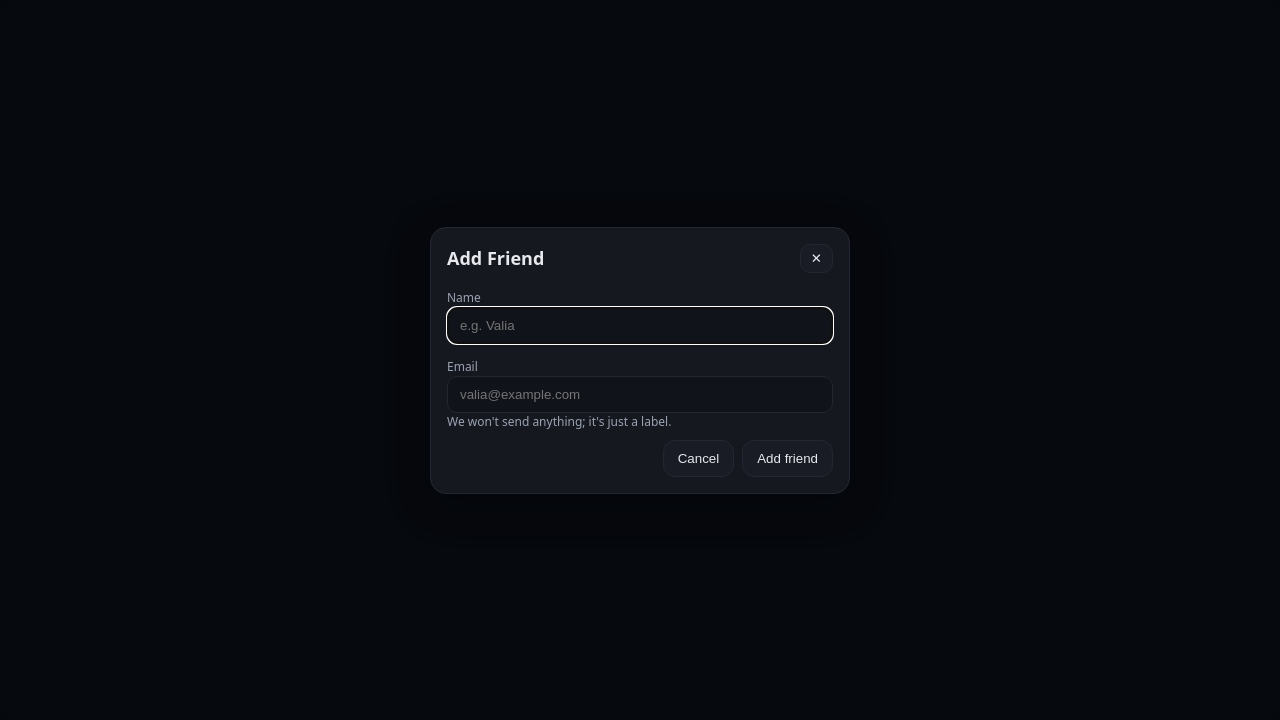
Test: AddFriendModal › shows error when submitting with invalid email
This screenshot has width=1280, height=720.
Type "John" into the field labelled "Name" at (640, 325), box [447,306,833,344]
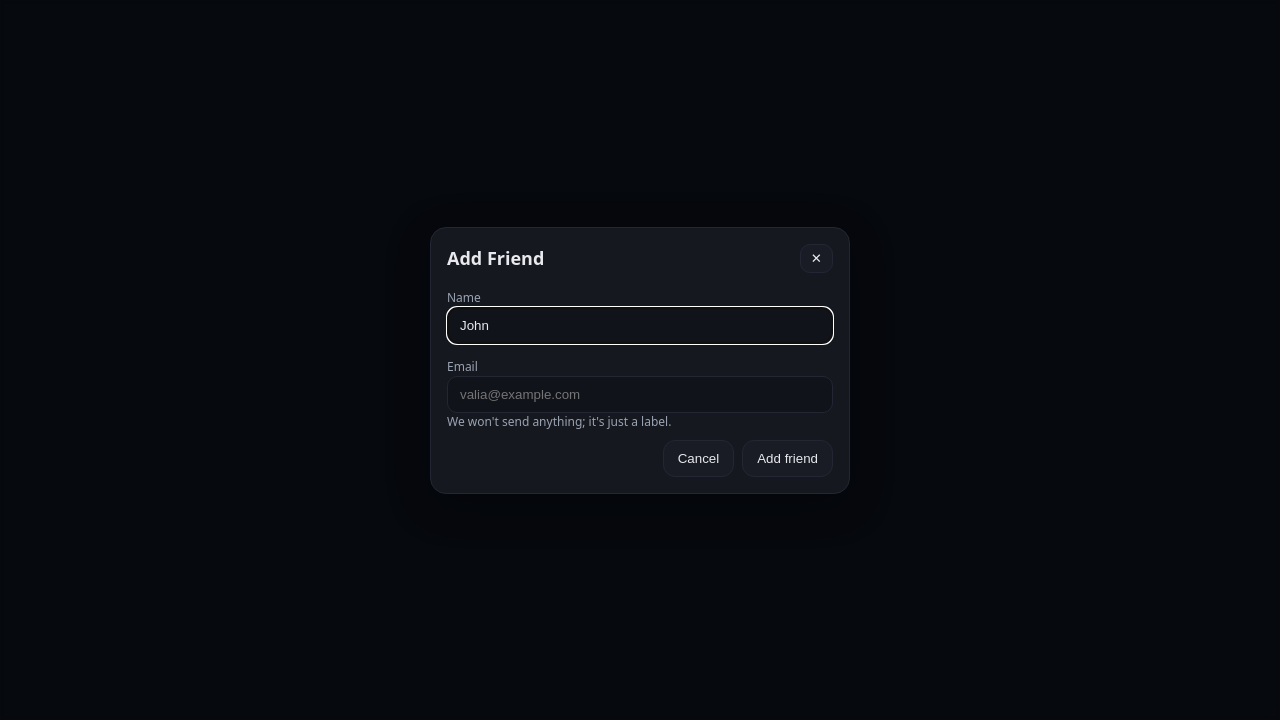
Type "invalid-email" into the field labelled "Email" at (640, 394), box [447,376,833,412]
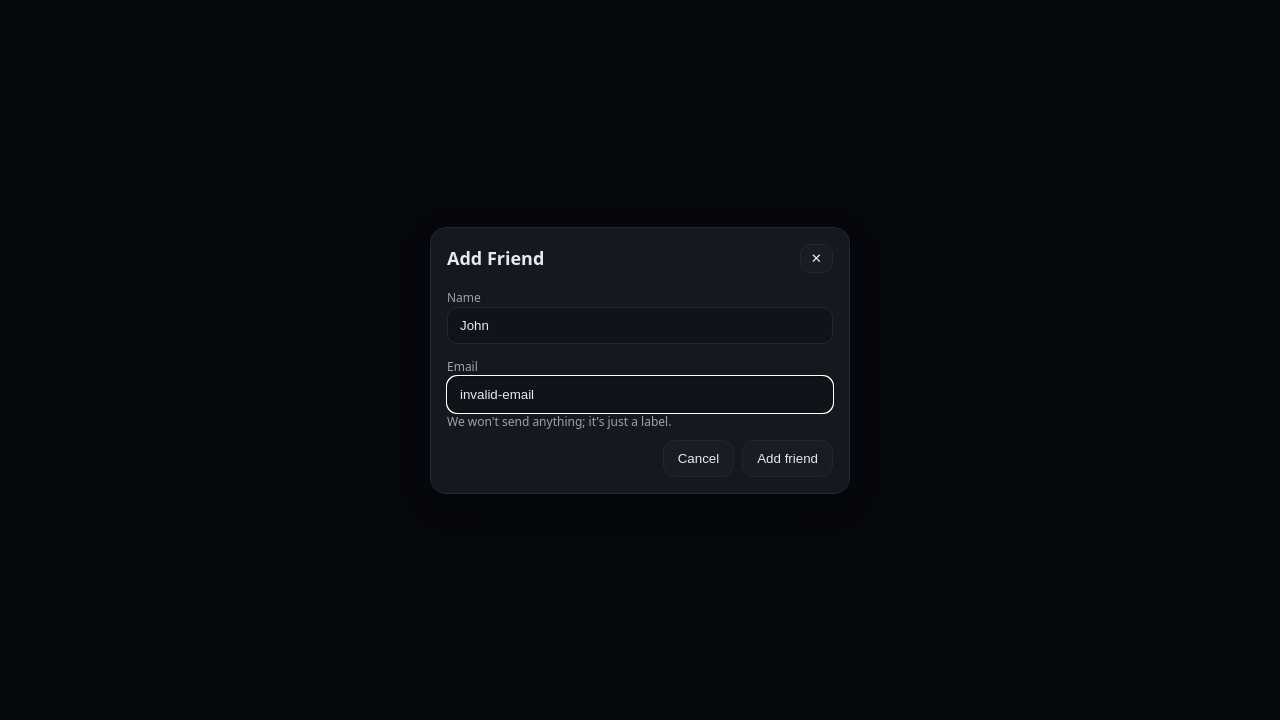
Click the button "Add friend" at (788, 458), box [742,440,833,476]
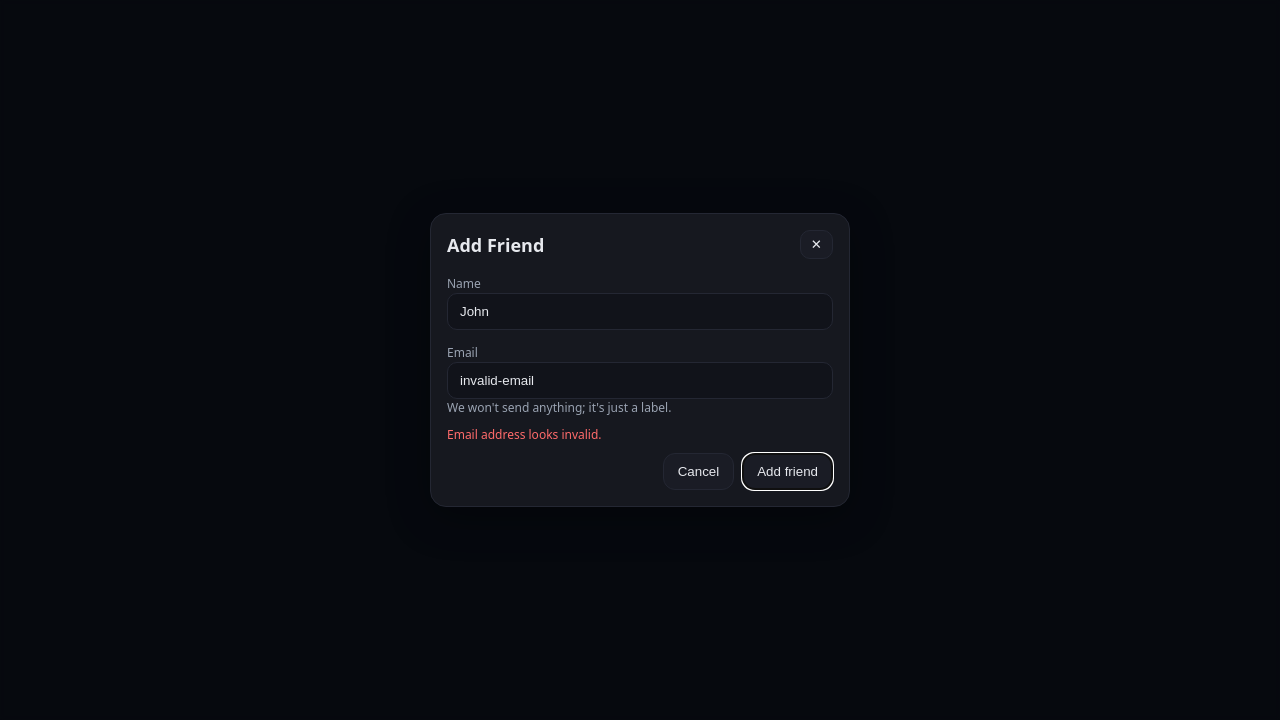
Expected: the message reads "Email address looks invalid.", [447,426,602,443]
